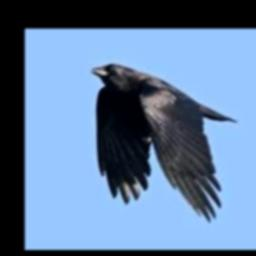Crow: (91, 61, 238, 223)
